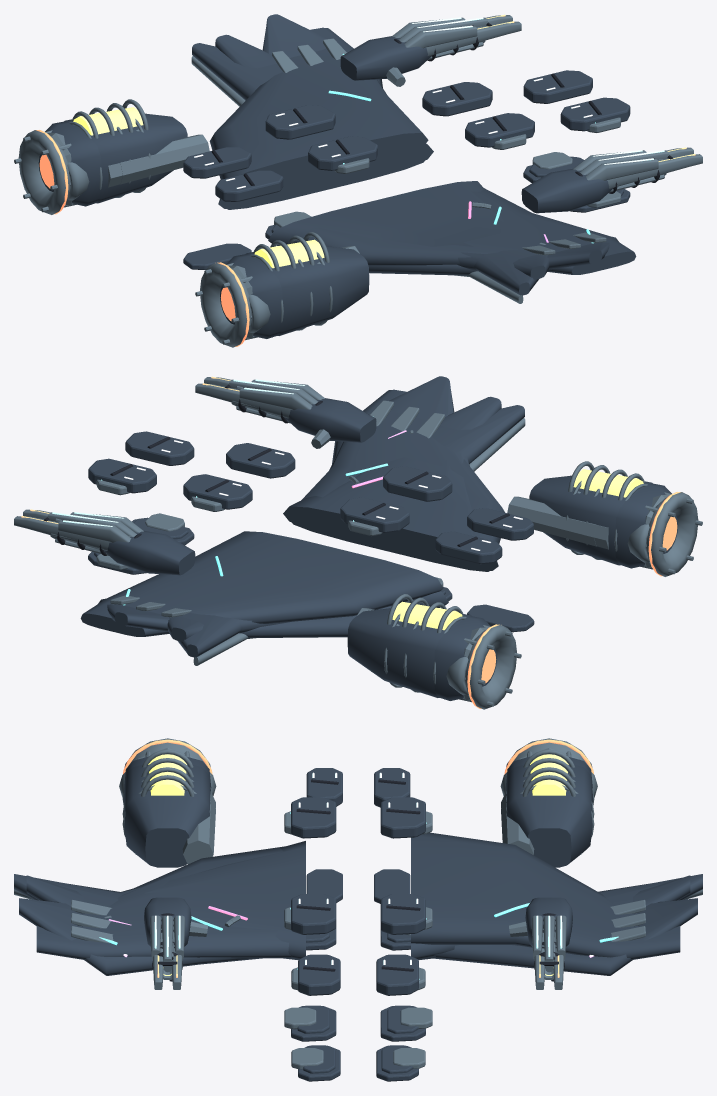
File: architect.glb
3 renders of one model, top to bottom at view 1: azimuth 30°, elevation 25°; view 2: azimuth 150°, elevation 25°; view 3: azimuth 270°, elevation 25°, orthographic. The views are drawn at different scales.
Visible parts, largest first — view 1: w_vane Fitting gunmetal, p_heavy Fitting gunmetal, w_razor Fitting gunmetal, e_twin Fitting gunmetal, e_nova Brushed fitting edges, w_phantom Fitting gunmetal, m_heavy Fitting gunmetal, w_prism Fitting gunmetal, e_nova Fitting gunmetal, m_array Brushed fitting edges, e_twin Brushed fitting edges, m_siege Brushed fitting edges (+9 smaller); view 2: w_vane Fitting gunmetal, p_heavy Fitting gunmetal, e_twin Fitting gunmetal, w_razor Fitting gunmetal, e_nova Brushed fitting edges, m_heavy Fitting gunmetal, w_prism Fitting gunmetal, w_phantom Fitting gunmetal, e_nova Fitting gunmetal, m_array Brushed fitting edges, e_twin Brushed fitting edges, m_siege Brushed fitting edges (+9 smaller); view 3: w_vane Fitting gunmetal, p_heavy Fitting gunmetal, e_twin Fitting gunmetal, w_razor Fitting gunmetal, w_prism Fitting gunmetal, p_light Brushed fitting edges, e_fusion Brushed fitting edges, m_array Brushed fitting edges, w_vane Brushed fitting edges, e_twin Brushed fitting edges, m_heavy Fitting gunmetal, w_phantom Fitting gunmetal (+10 smaller).
Part boxes in pixels (x1=…): w_vane Fitting gunmetal: x1=209, y1=27, x2=636, y2=274; p_heavy Fitting gunmetal: x1=183, y1=70, x2=630, y2=269; w_razor Fitting gunmetal: x1=215, y1=34, x2=549, y2=279; e_twin Fitting gunmetal: x1=64, y1=113, x2=369, y2=335; e_nova Brushed fitting edges: x1=14, y1=130, x2=257, y2=347; w_phantom Fitting gunmetal: x1=192, y1=43, x2=539, y2=295; m_heavy Fitting gunmetal: x1=340, y1=36, x2=613, y2=213; w_prism Fitting gunmetal: x1=247, y1=14, x2=618, y2=275; e_nova Fitting gunmetal: x1=38, y1=121, x2=282, y2=338; m_array Brushed fitting edges: x1=392, y1=17, x2=669, y2=180; e_twin Brushed fitting edges: x1=67, y1=129, x2=359, y2=333; m_siege Brushed fitting edges: x1=425, y1=15, x2=702, y2=188; w_vane Fitting gunmetal: x1=80, y1=389, x2=505, y2=636; p_heavy Fitting gunmetal: x1=88, y1=431, x2=534, y2=632; e_twin Fitting gunmetal: x1=347, y1=475, x2=652, y2=697; w_razor Fitting gunmetal: x1=167, y1=396, x2=501, y2=641; e_nova Brushed fitting edges: x1=459, y1=492, x2=702, y2=709; m_heavy Fitting gunmetal: x1=103, y1=398, x2=376, y2=575; w_prism Fitting gunmetal: x1=98, y1=376, x2=479, y2=637; w_phantom Fitting gunmetal: x1=177, y1=405, x2=524, y2=657; e_nova Fitting gunmetal: x1=434, y1=483, x2=678, y2=700; m_array Brushed fitting edges: x1=47, y1=379, x2=324, y2=542; e_twin Brushed fitting edges: x1=357, y1=491, x2=649, y2=695; m_siege Brushed fitting edges: x1=14, y1=377, x2=291, y2=550; w_vane Fitting gunmetal: x1=36, y1=832, x2=680, y2=960; p_heavy Fitting gunmetal: x1=291, y1=768, x2=425, y2=1081; e_twin Fitting gunmetal: x1=123, y1=764, x2=593, y2=867; w_razor Fitting gunmetal: x1=26, y1=841, x2=690, y2=959; w_prism Fitting gunmetal: x1=19, y1=898, x2=697, y2=975; p_light Brushed fitting edges: x1=284, y1=811, x2=432, y2=1069; e_fusion Brushed fitting edges: x1=135, y1=747, x2=581, y2=854; m_array Brushed fitting edges: x1=150, y1=915, x2=566, y2=967; w_vane Brushed fitting edges: x1=71, y1=899, x2=645, y2=943; e_twin Brushed fitting edges: x1=119, y1=772, x2=597, y2=864; m_heavy Fitting gunmetal: x1=144, y1=897, x2=572, y2=946; w_phantom Fitting gunmetal: x1=14, y1=874, x2=702, y2=960.
Size of the model in its own units: 49.24 by 12.75 by 57.78.
